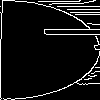J: (24, 25, 100, 51)
